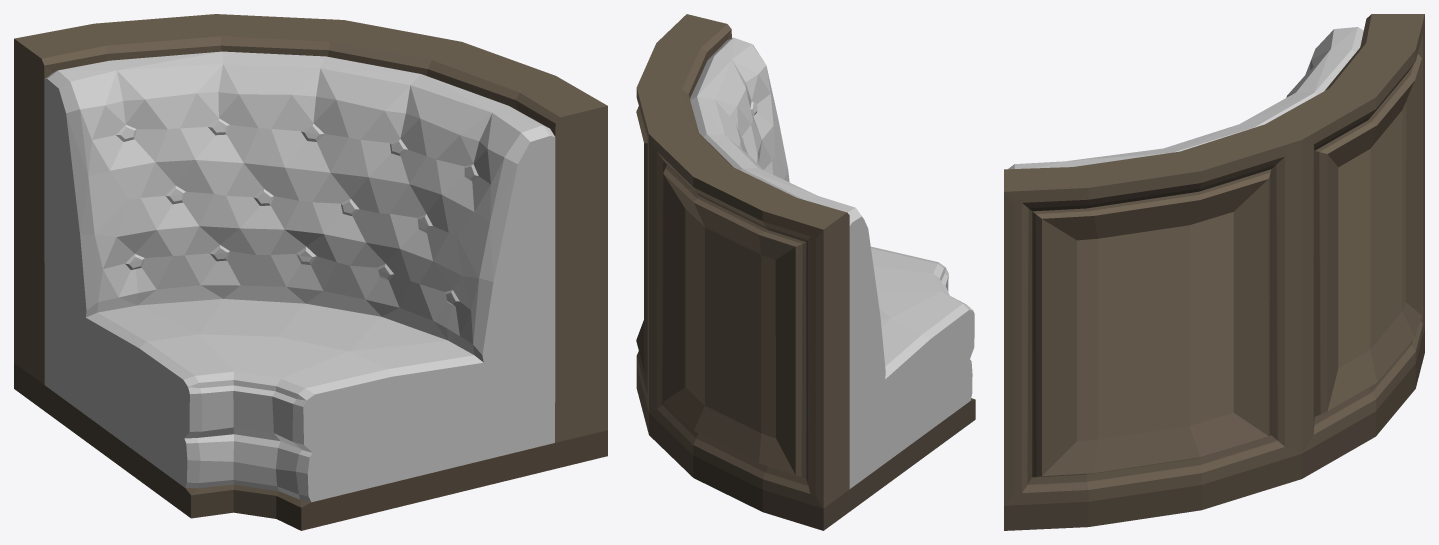
File: SM_Prop_Sofa_01_Corner_05.fbx
The picture shows the model from 3 angles, left to right: view 1: azimuth 30°, elevation 25°; view 2: azimuth 150°, elevation 25°; view 3: azimuth 270°, elevation 25°; orthographic projection. The views are drawn at different scales.
Visible parts, largest first — view 1: SM_Prop_Sofa_01_Corner_05; view 2: SM_Prop_Sofa_01_Corner_05; view 3: SM_Prop_Sofa_01_Corner_05.
Boxes of the visible parts, x1=… form: SM_Prop_Sofa_01_Corner_05: x1=14, y1=14, x2=607, y2=530; SM_Prop_Sofa_01_Corner_05: x1=636, y1=14, x2=975, y2=530; SM_Prop_Sofa_01_Corner_05: x1=1004, y1=14, x2=1424, y2=530.
Size of the model in its own units: 125 by 111 by 125.
